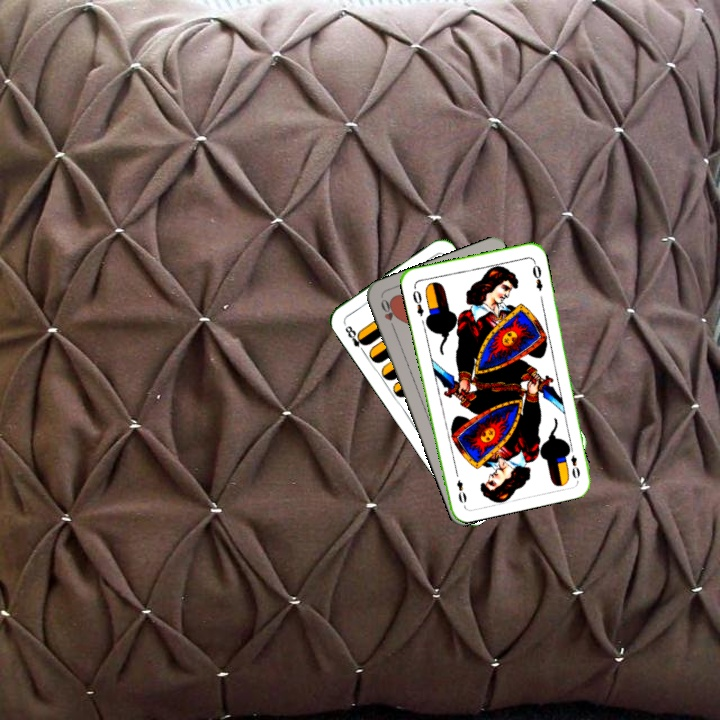E8: (341, 321, 370, 356)
EO: (564, 441, 583, 481), (409, 282, 426, 319)
HO: (377, 295, 398, 333)
